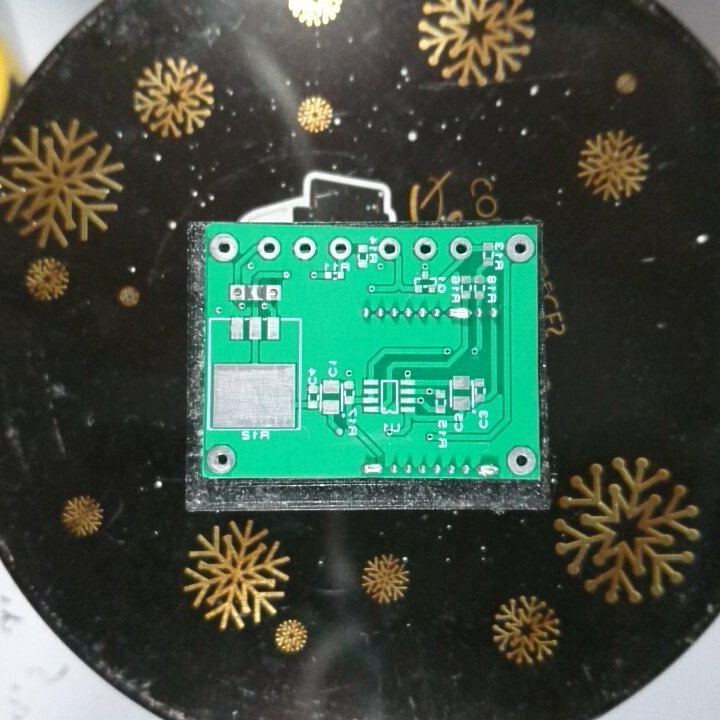F: (204, 442, 241, 474), (208, 232, 242, 264), (503, 443, 536, 475), (503, 232, 534, 265), (447, 232, 475, 264), (410, 233, 440, 262), (255, 234, 283, 263), (291, 235, 321, 262), (329, 234, 355, 264), (376, 235, 403, 263), (227, 280, 247, 306), (264, 282, 283, 304)
P: (444, 304, 472, 325), (476, 460, 501, 479), (359, 460, 383, 479)
